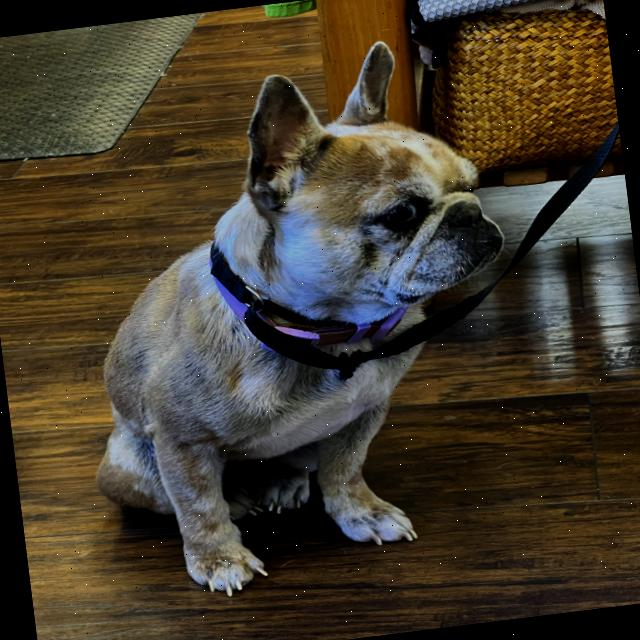french_bulldog_dog: (188, 22, 518, 354)
